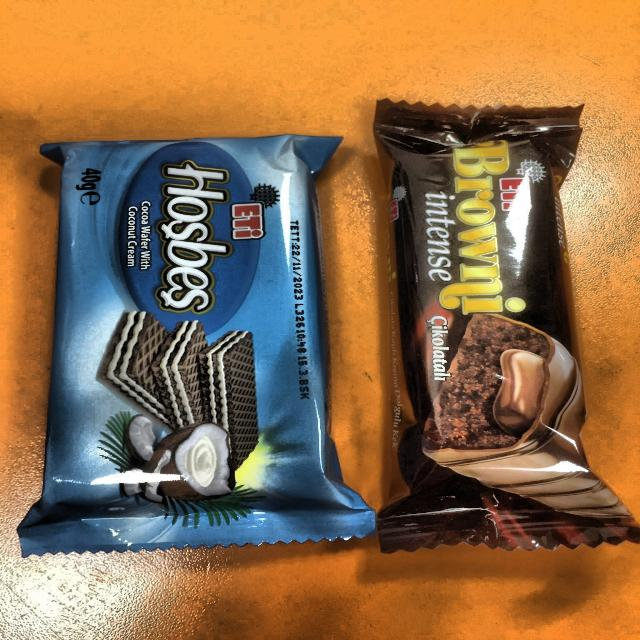Plastic: (22, 114, 354, 550), (370, 97, 632, 552)
